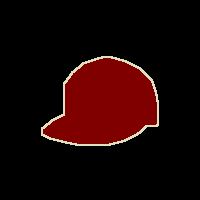hat: (42, 56, 158, 145)
